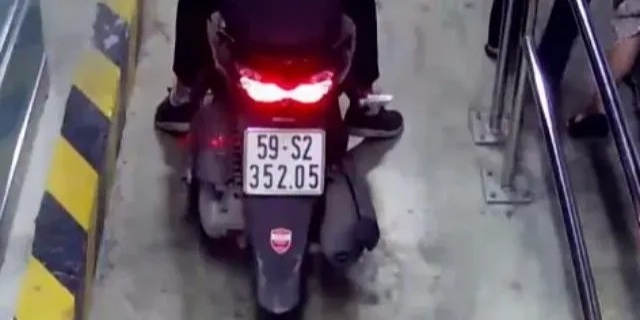bien_so: (243, 129, 325, 194)
